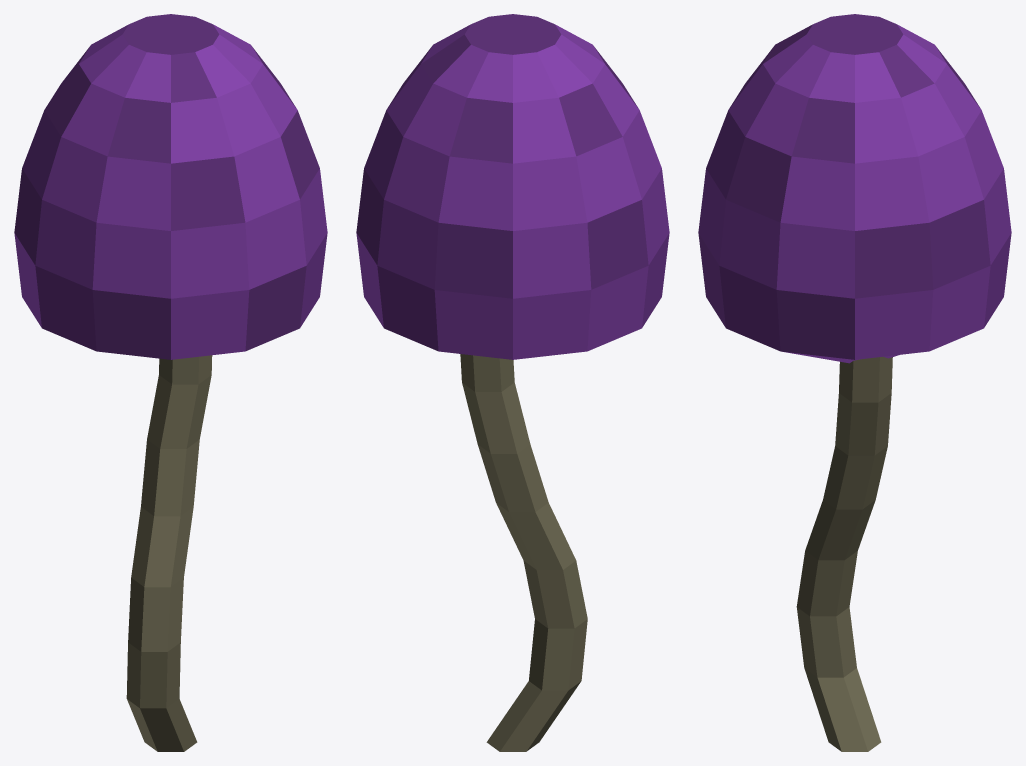
The model's file is Mushroom_2_Purple.fbx.
3 views of the same model, side by side, from view 1: azimuth 30°, elevation 25°; view 2: azimuth 150°, elevation 25°; view 3: azimuth 270°, elevation 25° (orthographic).
Visible parts, largest first — view 1: Mushroom_2_Purple; view 2: Mushroom_2_Purple; view 3: Mushroom_2_Purple.
Boxes of the visible parts, left/top/right/bottom form: Mushroom_2_Purple: left=14, top=14, right=327, bottom=751; Mushroom_2_Purple: left=356, top=14, right=669, bottom=751; Mushroom_2_Purple: left=698, top=14, right=1011, bottom=751.
Size of the model in its own units: 11.86 by 29.58 by 11.86.
